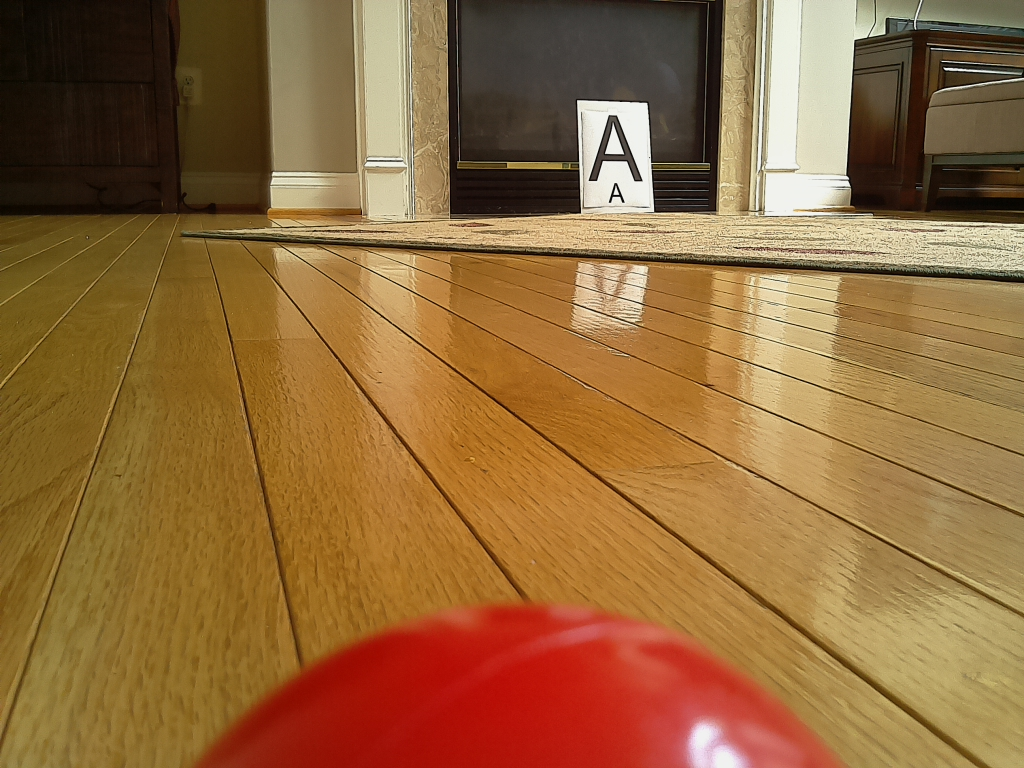letter: (591, 114, 640, 183)
